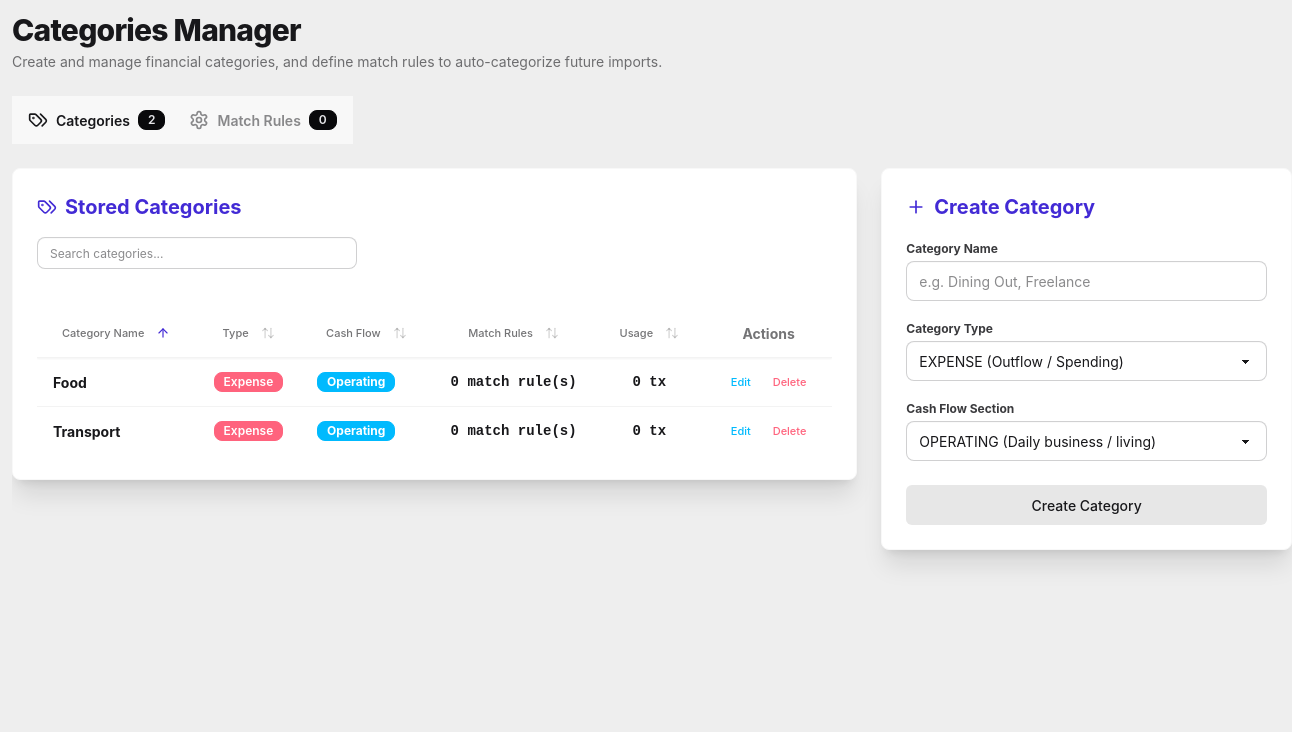
CategoriesClient — categories list › filters categories by search query
Type "Food" into the field with placeholder "Search categories..." at (197, 253), box [37,237,357,269]
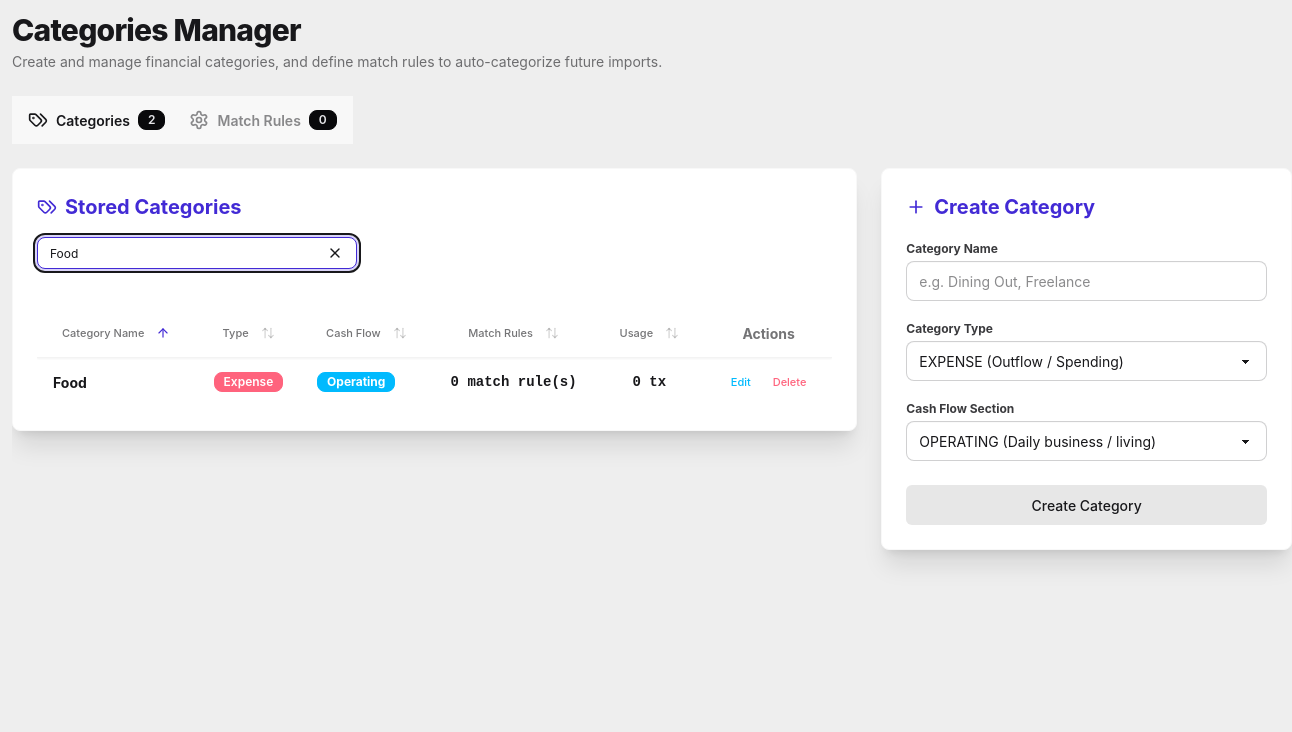
Expected: the text "Food" is shown, [53,374,87,391]
Now the text "Transport" is gone
